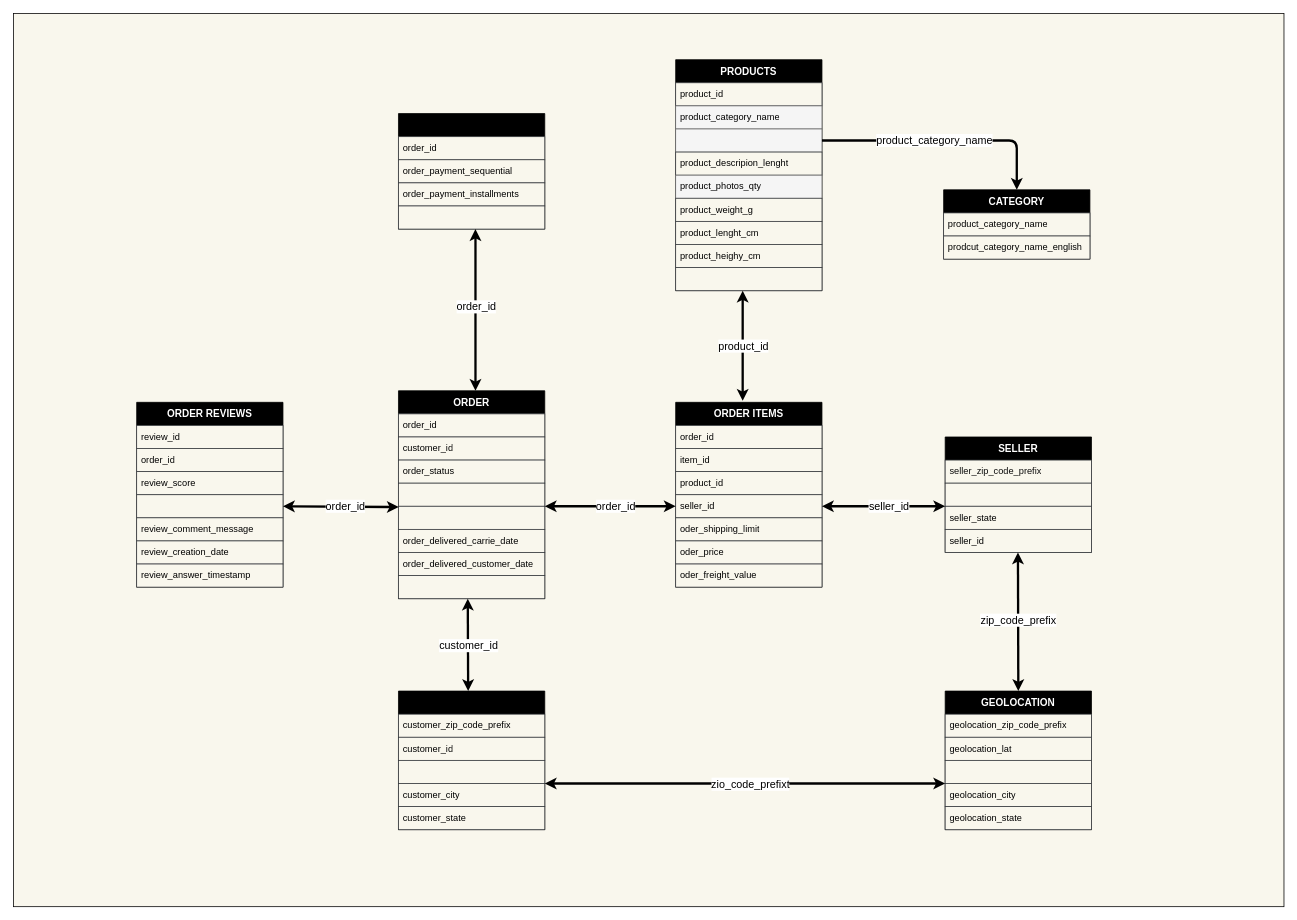
This 1297x920 diagram has some shape labels left out. The shapes that lost their labels are listed below. From the top down, each one's centre as x and y in pixels, then its label:
the point at 748,140: product_name_lenght
the point at 471,217: order_payment_value
the point at 748,279: product_width_cm
the point at 209,506: review_comment_title
the point at 471,494: order_purchase_timestamp
the point at 1017,494: seller_city
the point at 471,517: order_approved_at
the point at 471,587: order_estimated_delivery_date
the point at 471,771: customer_unique_id
the point at 1017,771: geolocation_lng
